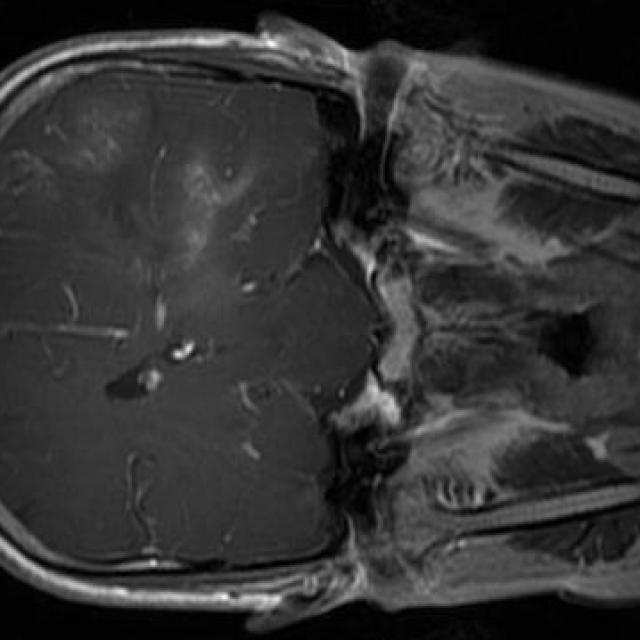glioma: (114, 152, 253, 287)
